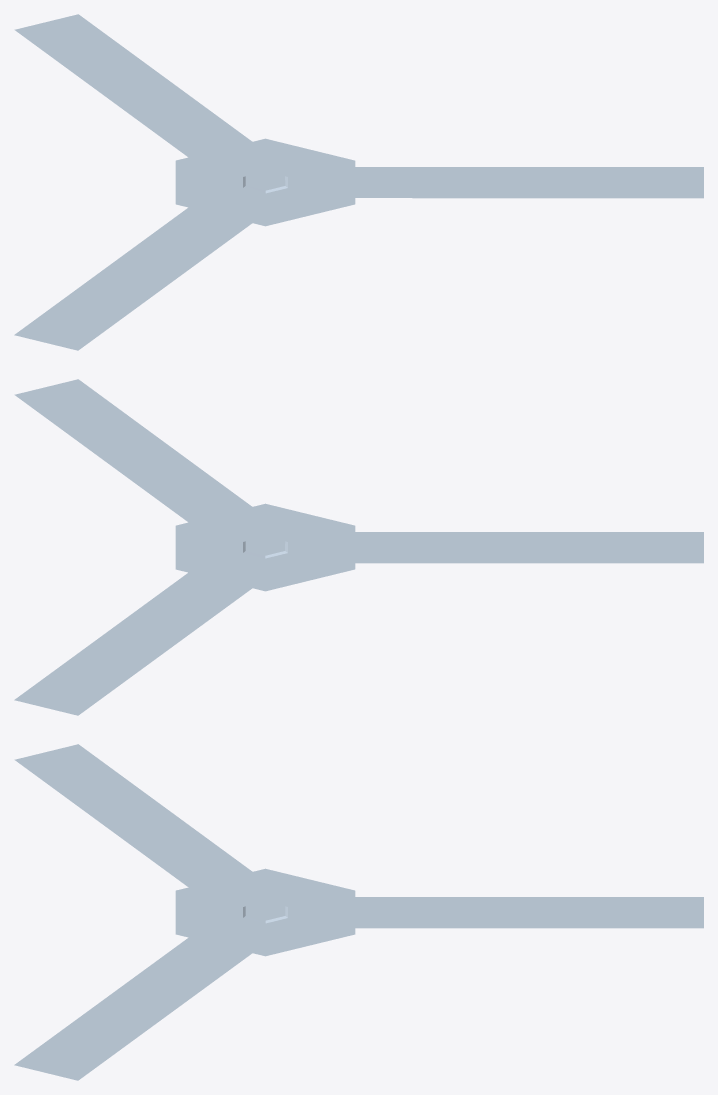
Rendered from Tbg_sho_all_p_stanZ.glb.
3 views of the same model, one above another, from view 1: azimuth 30°, elevation 25°; view 2: azimuth 150°, elevation 25°; view 3: azimuth 270°, elevation 25° (orthographic).
Visible parts, largest first — view 1: room_21, room_24, room_23, room_22, room_25; view 2: room_21, room_23, room_22, room_24, room_25; view 3: room_21, room_22, room_23, room_24, room_25.
Boxes of the visible parts, x1,y1,x2,y2 form: room_21: [175, 138, 355, 226]; room_24: [355, 167, 703, 198]; room_23: [14, 207, 252, 350]; room_22: [14, 14, 252, 157]; room_25: [243, 171, 287, 193]; room_21: [175, 503, 355, 591]; room_23: [355, 532, 703, 563]; room_22: [14, 572, 251, 715]; room_24: [14, 379, 252, 522]; room_25: [243, 536, 287, 558]; room_21: [175, 868, 355, 956]; room_22: [355, 897, 703, 928]; room_23: [14, 744, 252, 887]; room_24: [14, 937, 252, 1080]; room_25: [243, 901, 287, 923].
Bounding box in the file's own units: 4557 × 9 × 3947.
